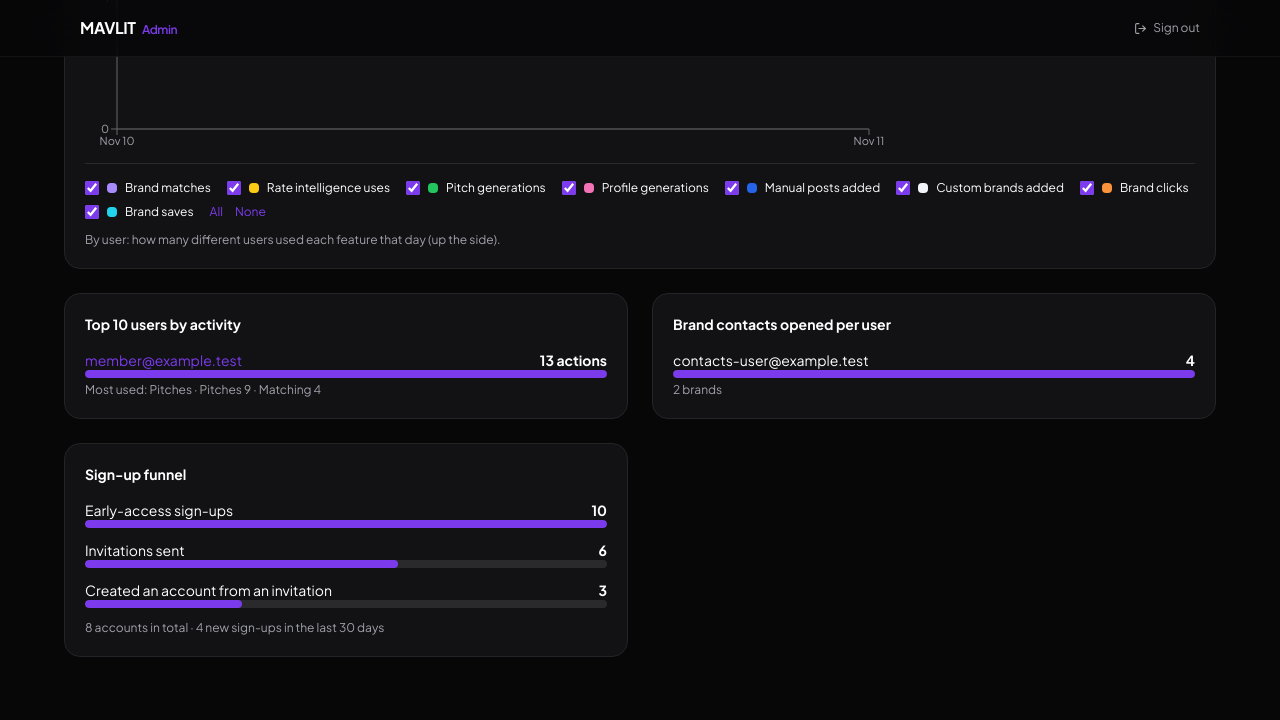
Test: Usage & Cost page › opens a user from 'Top 10 users by activity' and shows what they did, when, and what they use most, with no money
The width and height of the screenshot is (1280, 720).
(page scrolled)
Click the button "member@example.test". click: click(164, 360)
box: [85, 350, 242, 370]
(page scrolled)
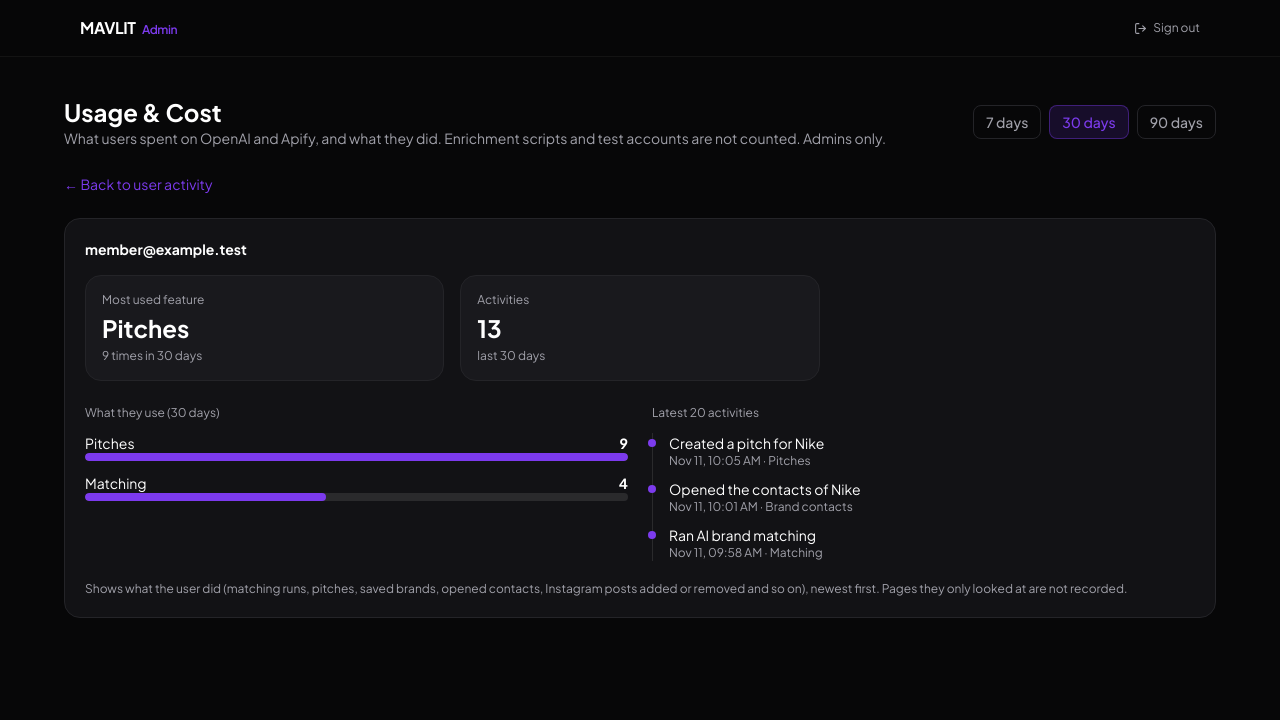
Now the element with test id "stat-most-used" shows "Pitches", box [102, 313, 189, 343]
Now the element with test id "stat-most-used" shows "9 times", box [102, 348, 202, 363]
Now the list item "Created a pitch for Nike Nov 11, 10:05 AM · Pitches" is shown, box [669, 434, 824, 468]
Click the button "← Back to user activity". click: click(138, 184)
box: [64, 174, 212, 194]
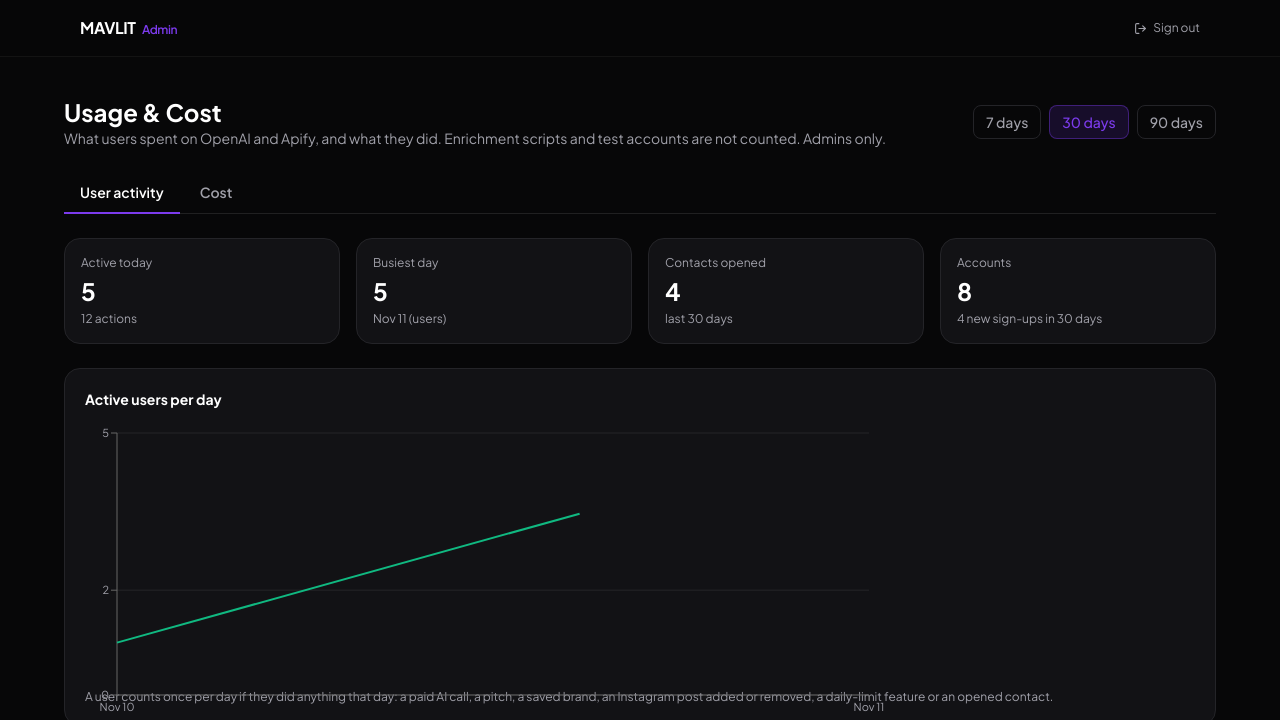
Now the element with test id "stat-active-today" is shown, box [64, 238, 340, 344]
